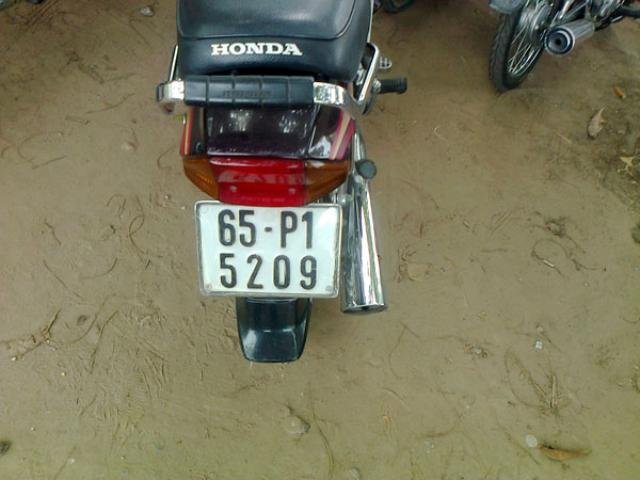plate: (196, 205, 332, 298)
